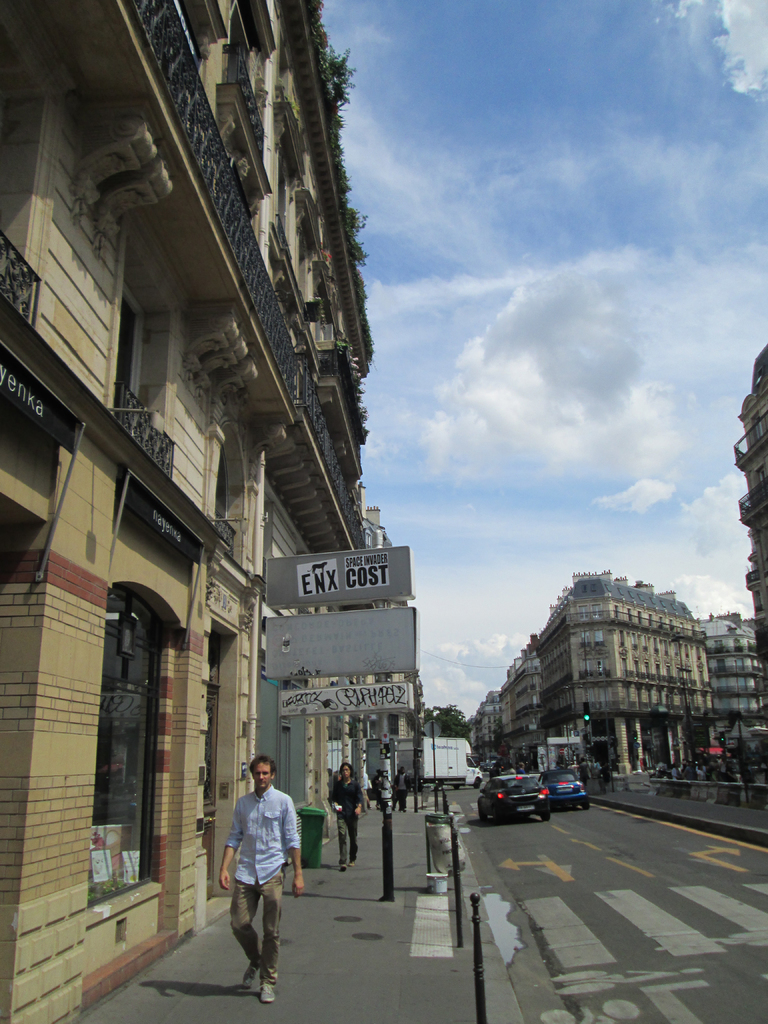Footwear: (259, 979, 271, 1005), (243, 965, 255, 984), (344, 856, 356, 867), (335, 860, 348, 870)
